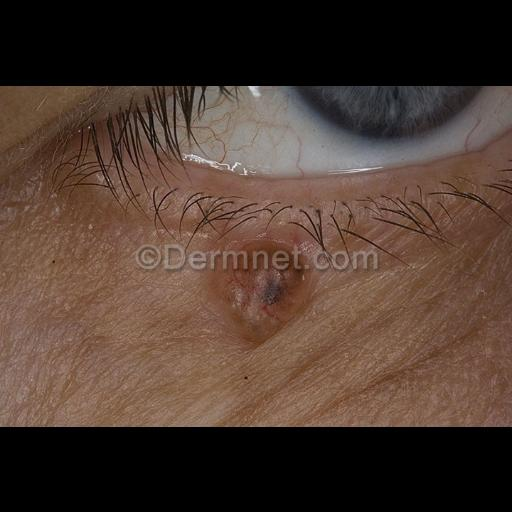Skin_Lesion: (214, 238, 322, 324)
